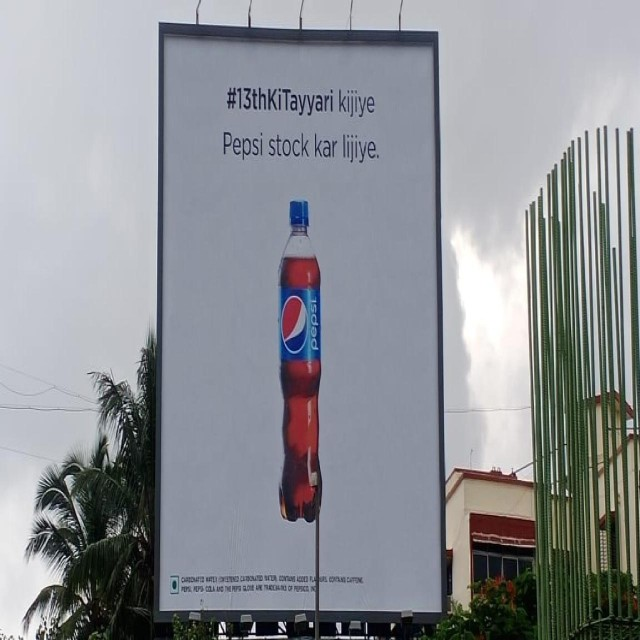pepsi: (280, 295, 309, 354)
